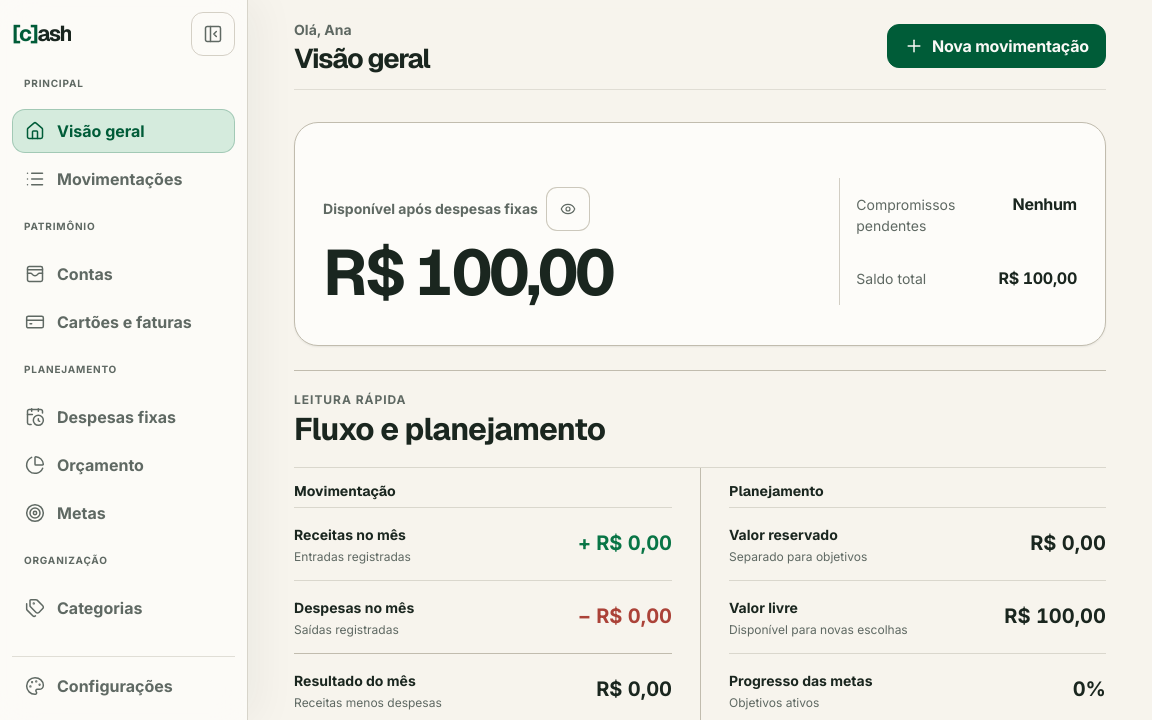
it: mantém nova movimentação como ação global
Click the button "Contas" at point(124, 274), box [12,252,235,296]
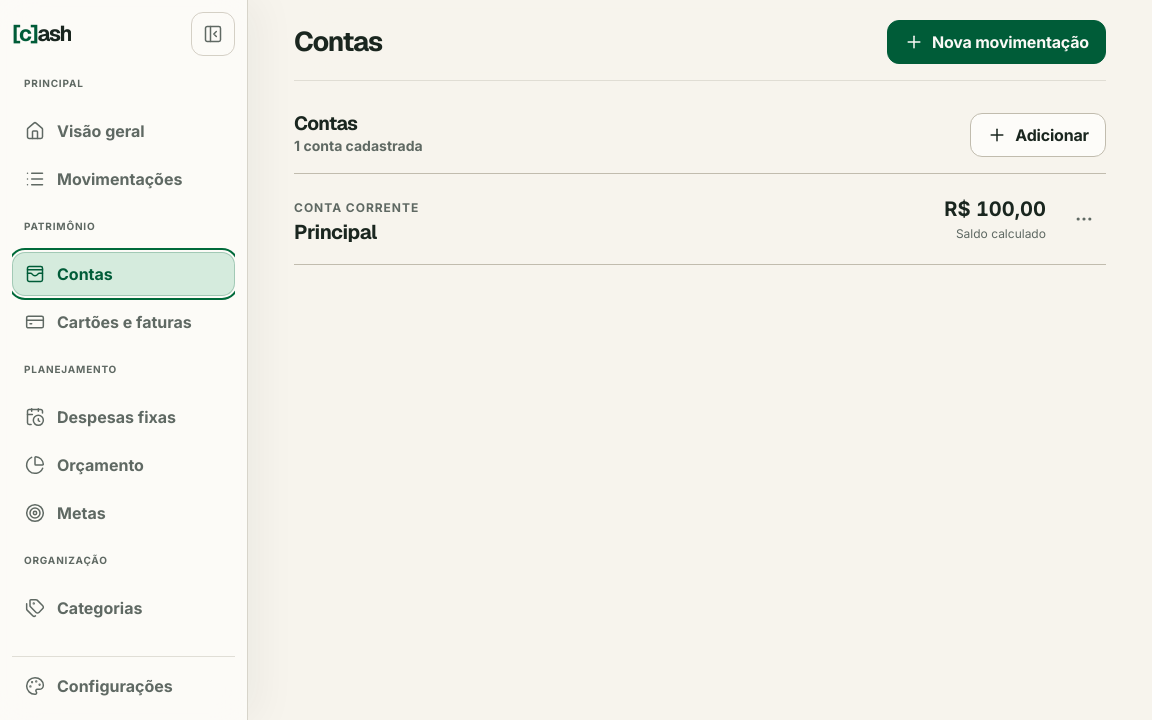
Expected: the button "Nova movimentação" is enabled, [887,20,1106,64]
Expected: the 1st heading "Contas" is shown, [294,24,382,59]
Click the button "Cartões e faturas" at point(124, 322), box [12,300,235,344]
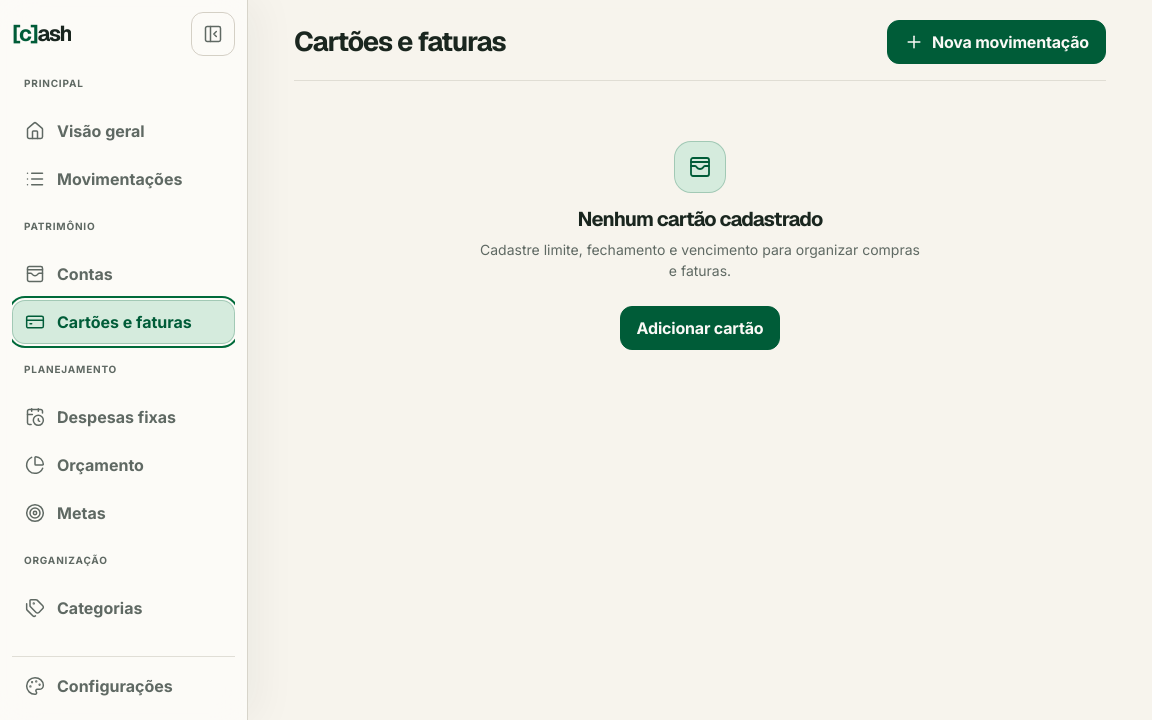
Expected: the button "Nova movimentação" is enabled, [887,20,1106,64]
Expected: the heading "Cartões e faturas" is shown, [294,24,506,59]
Click the button "Despesas fixas" at point(124, 417), box [12,395,235,439]
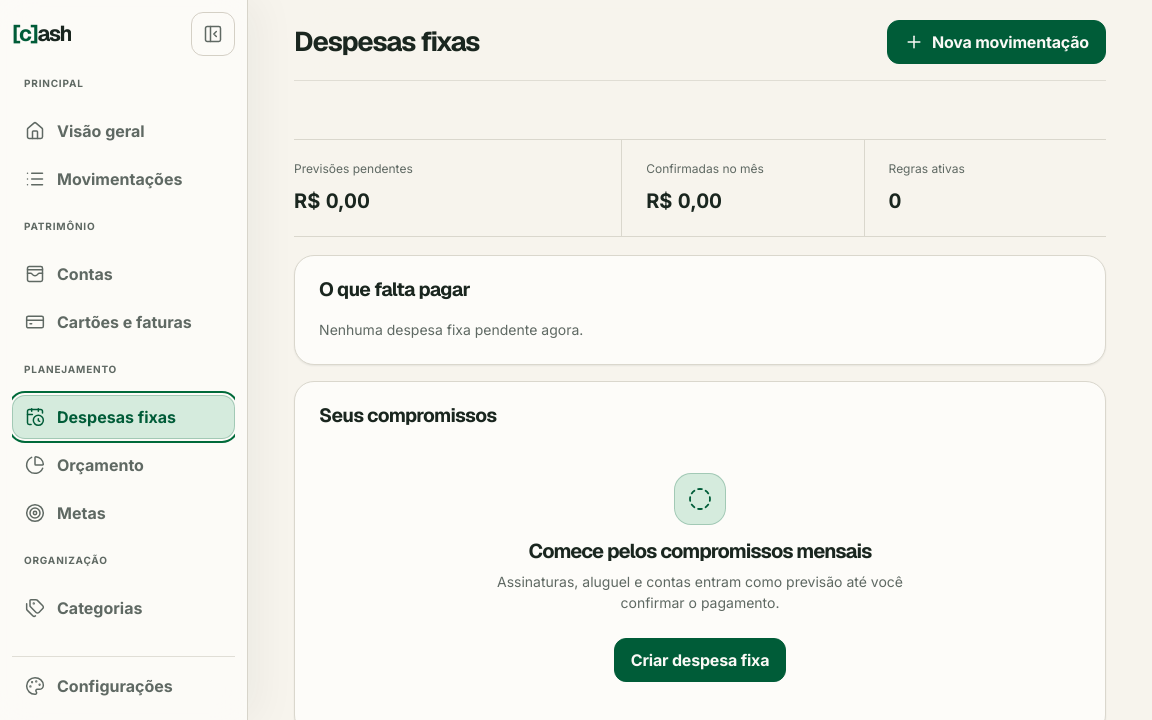
Expected: the button "Nova movimentação" is enabled, [887,20,1106,64]
Expected: the heading "Despesas fixas" is shown, [294,24,479,59]
